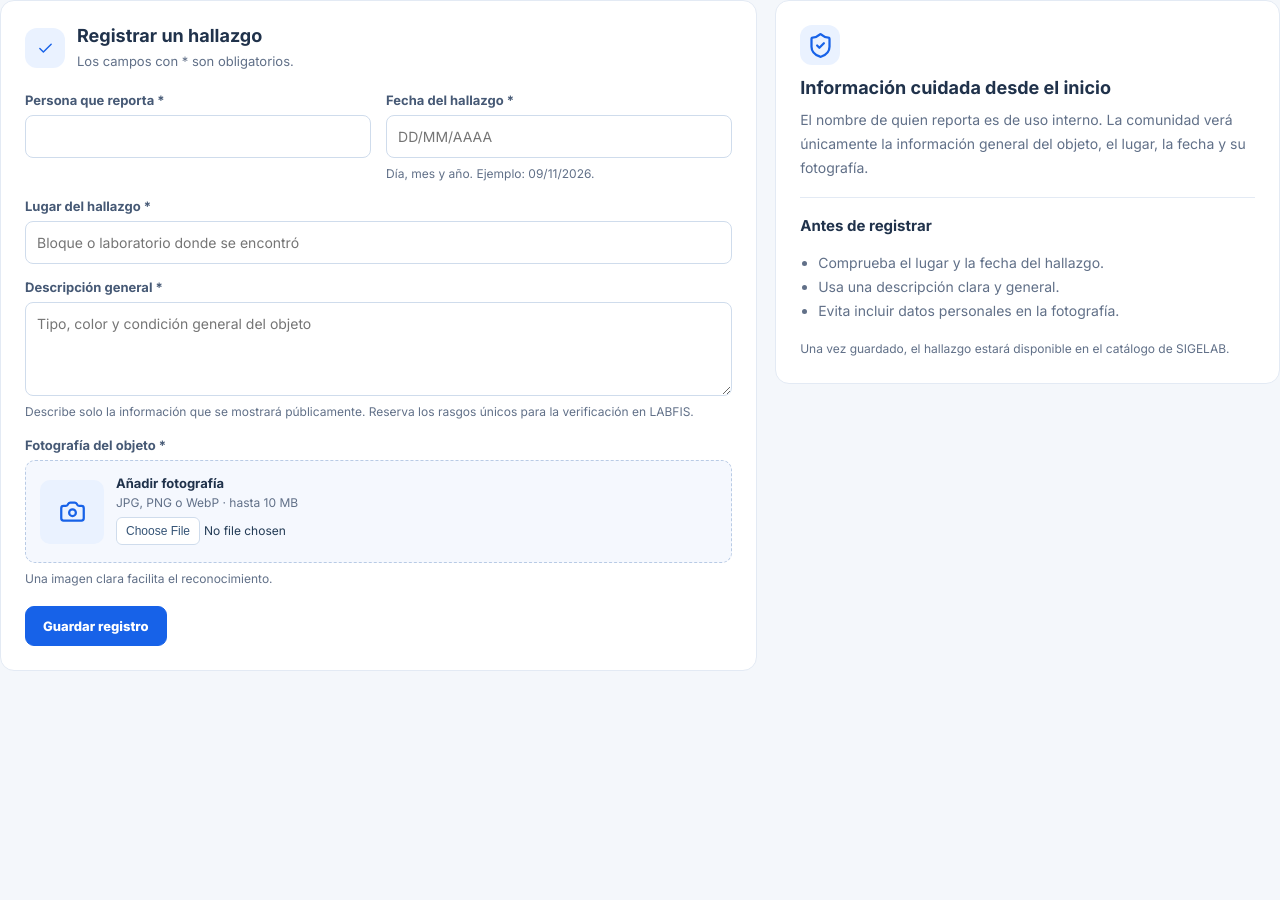
it: HU-01: formulario conectado al servicio › fotografía faltante: conserva los datos y evita el envío
The width and height of the screenshot is (1280, 900).
Step 1. Type "Juan Pérez" into the field labelled "Persona que reporta *" → (198, 136), box [25,115,371,158]
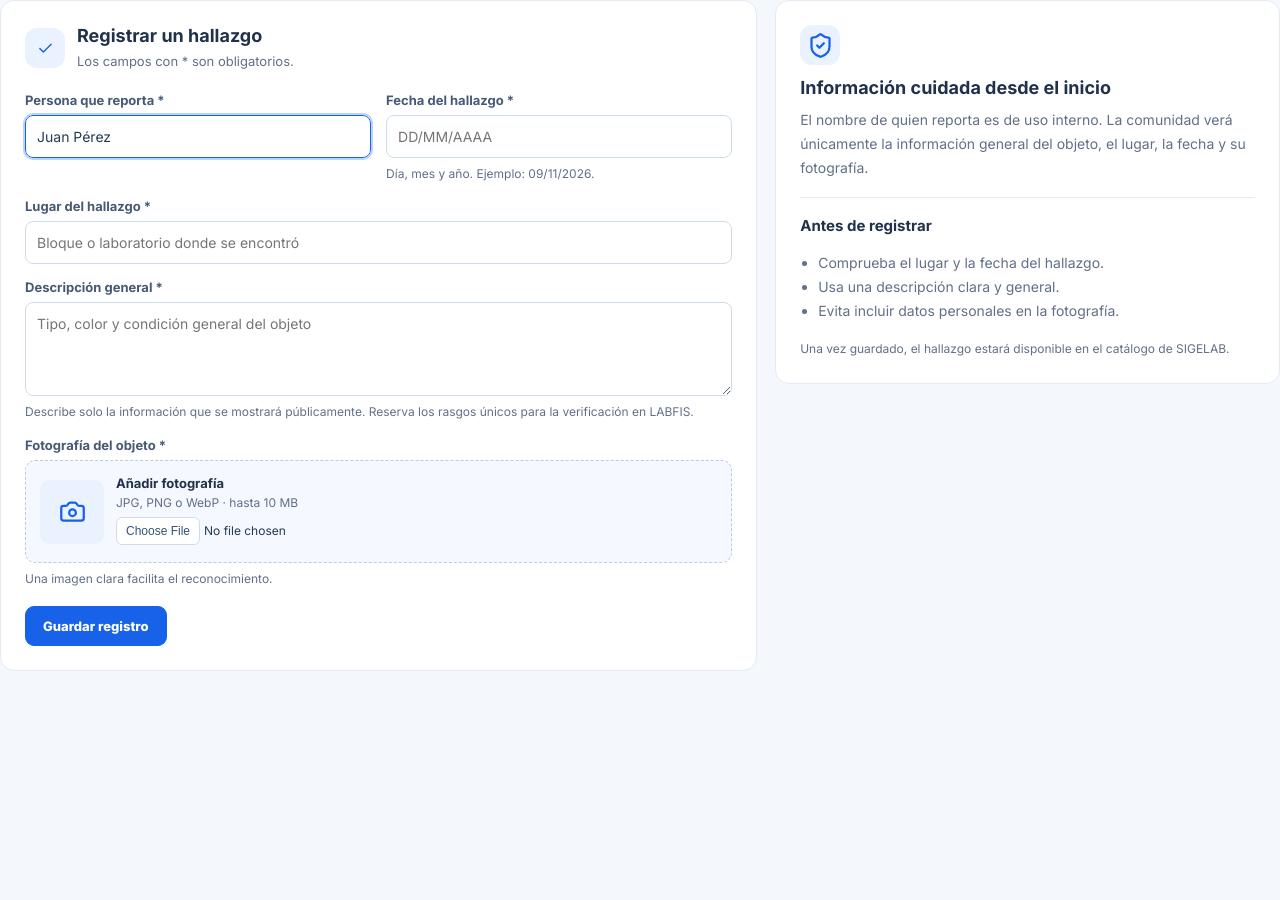
Step 2. Type "Mochila negra" into the text box labelled "Descripción general *" → (379, 349), box [25,302,732,396]
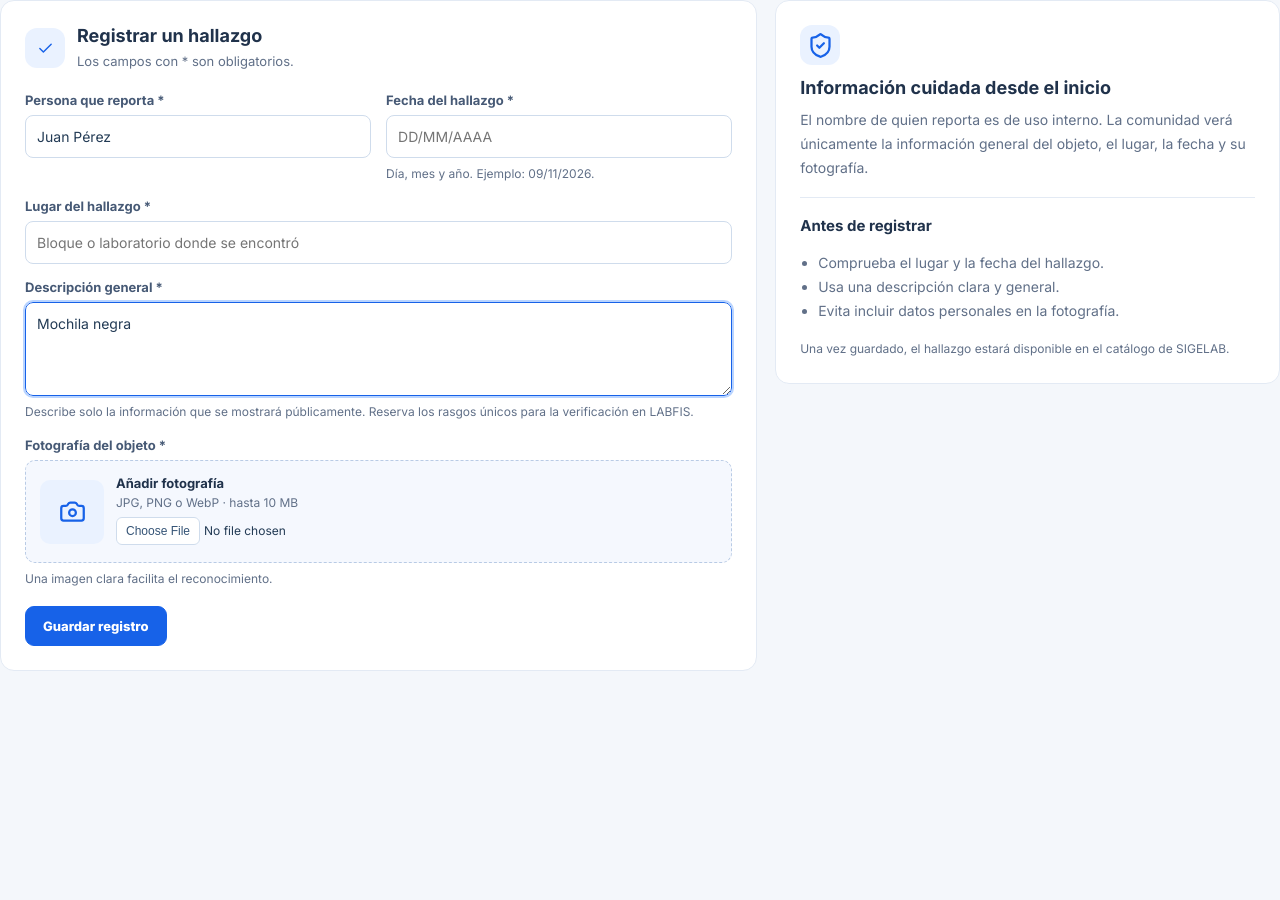
Step 3. Type "Laboratorio de Física 1" into the field labelled "Lugar del hallazgo *" → (379, 242), box [25,221,732,264]
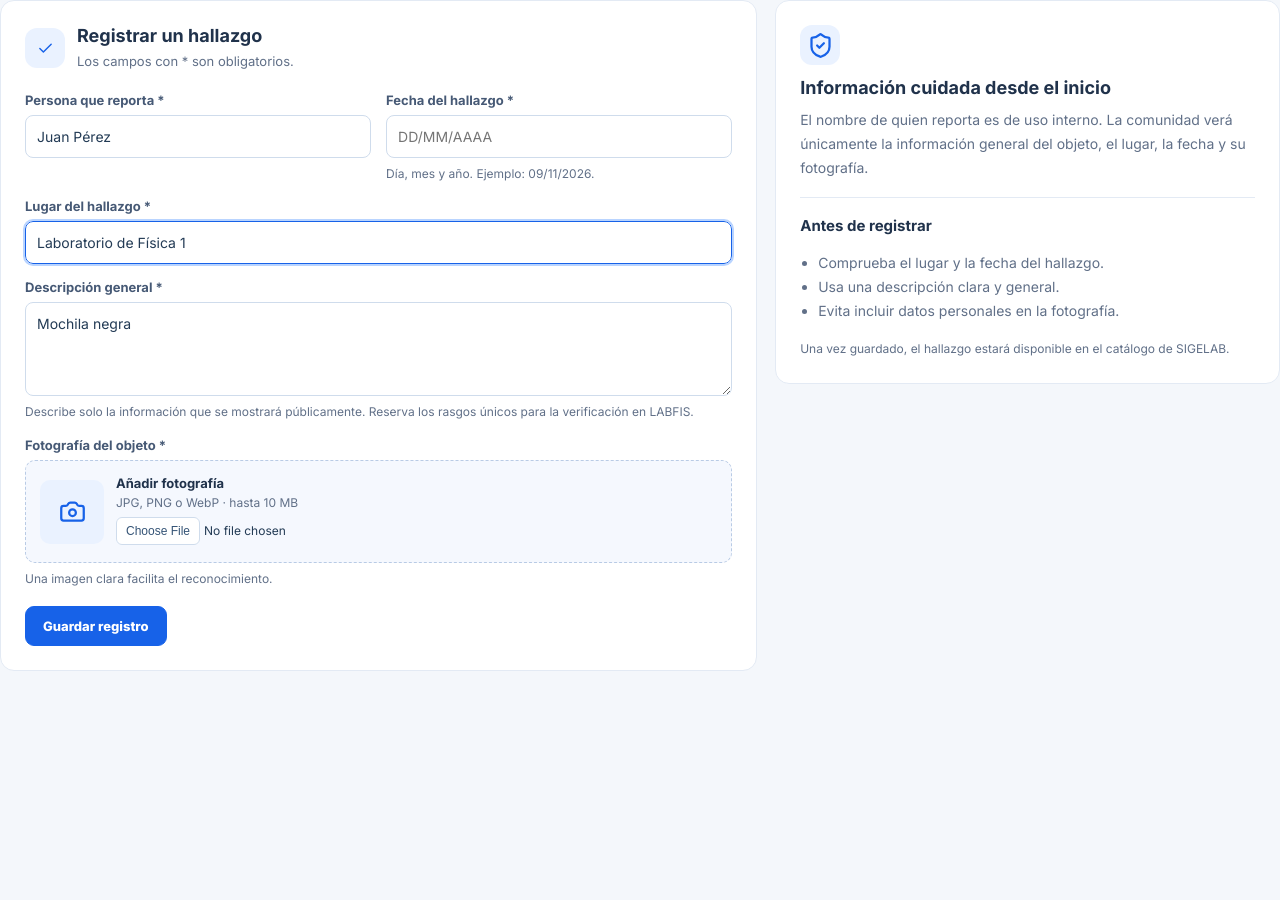
Step 4. Type "09/11/2026" into the field labelled "Fecha del hallazgo *" → (559, 136), box [386,115,732,158]
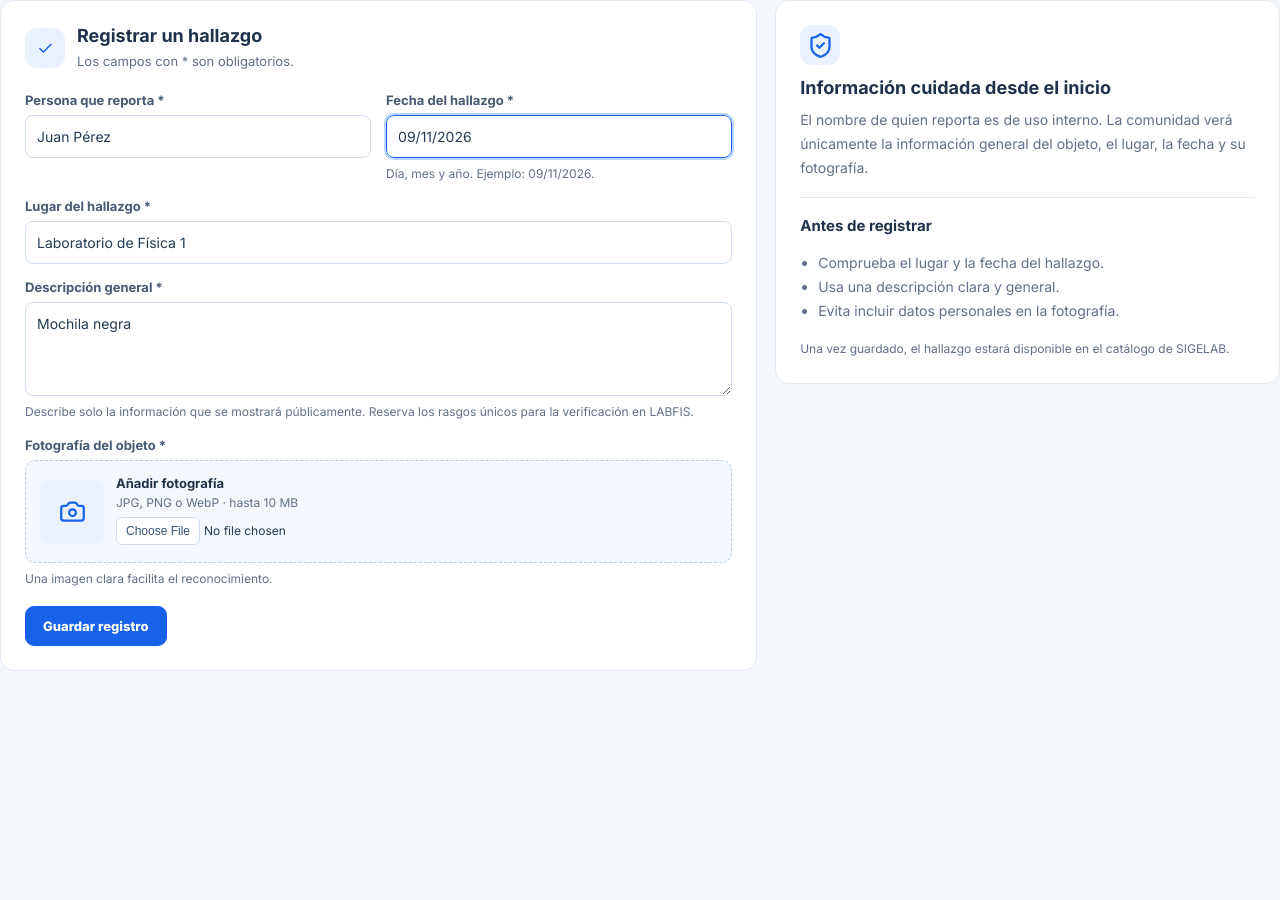
Step 5. Click the button "Guardar registro" → (96, 626), box [25,606,166,646]
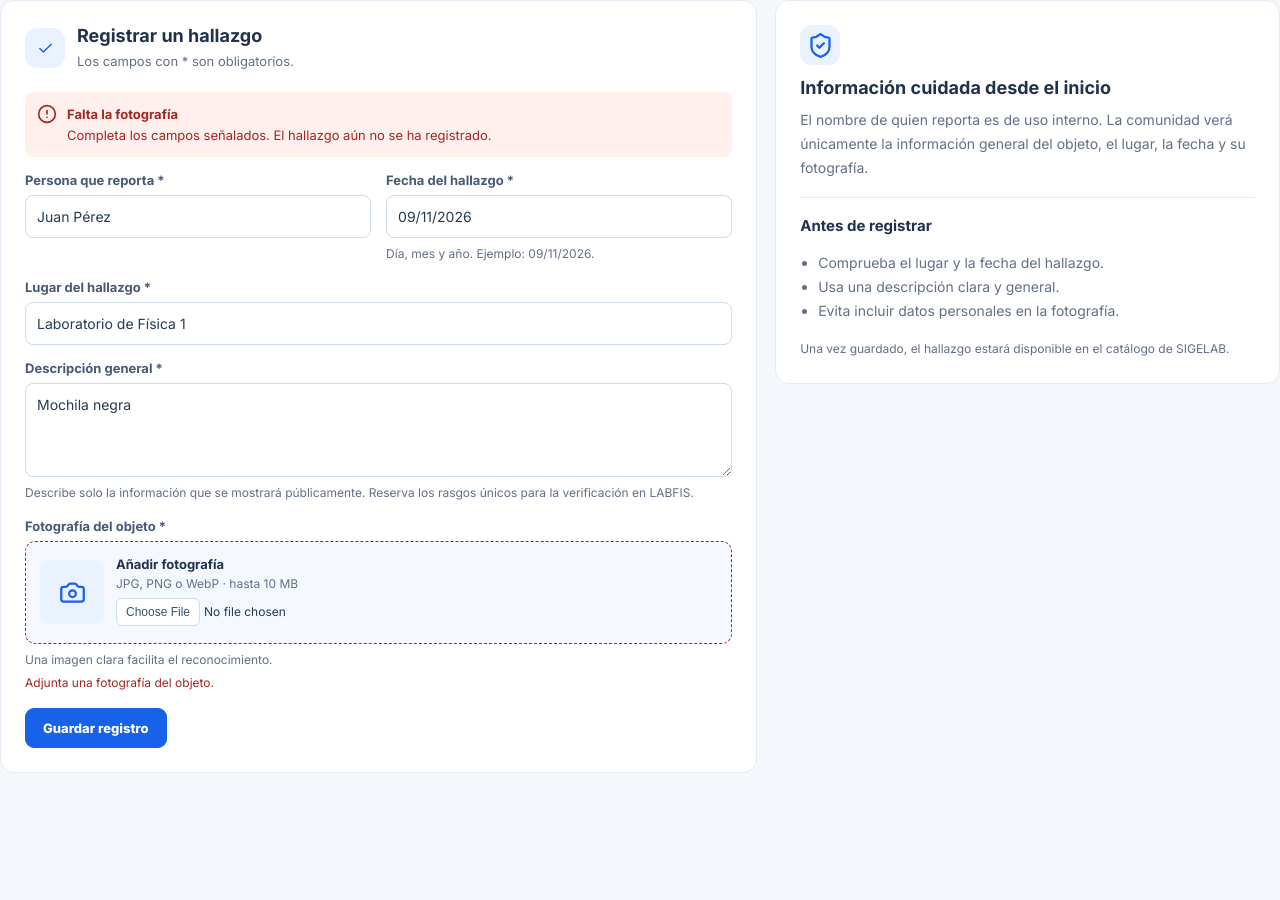
Result: the text "Falta la fotografía" is shown at [67,106,178,122]
Result: the text "Adjunta una fotografía del objeto." is shown at [25,675,214,690]
